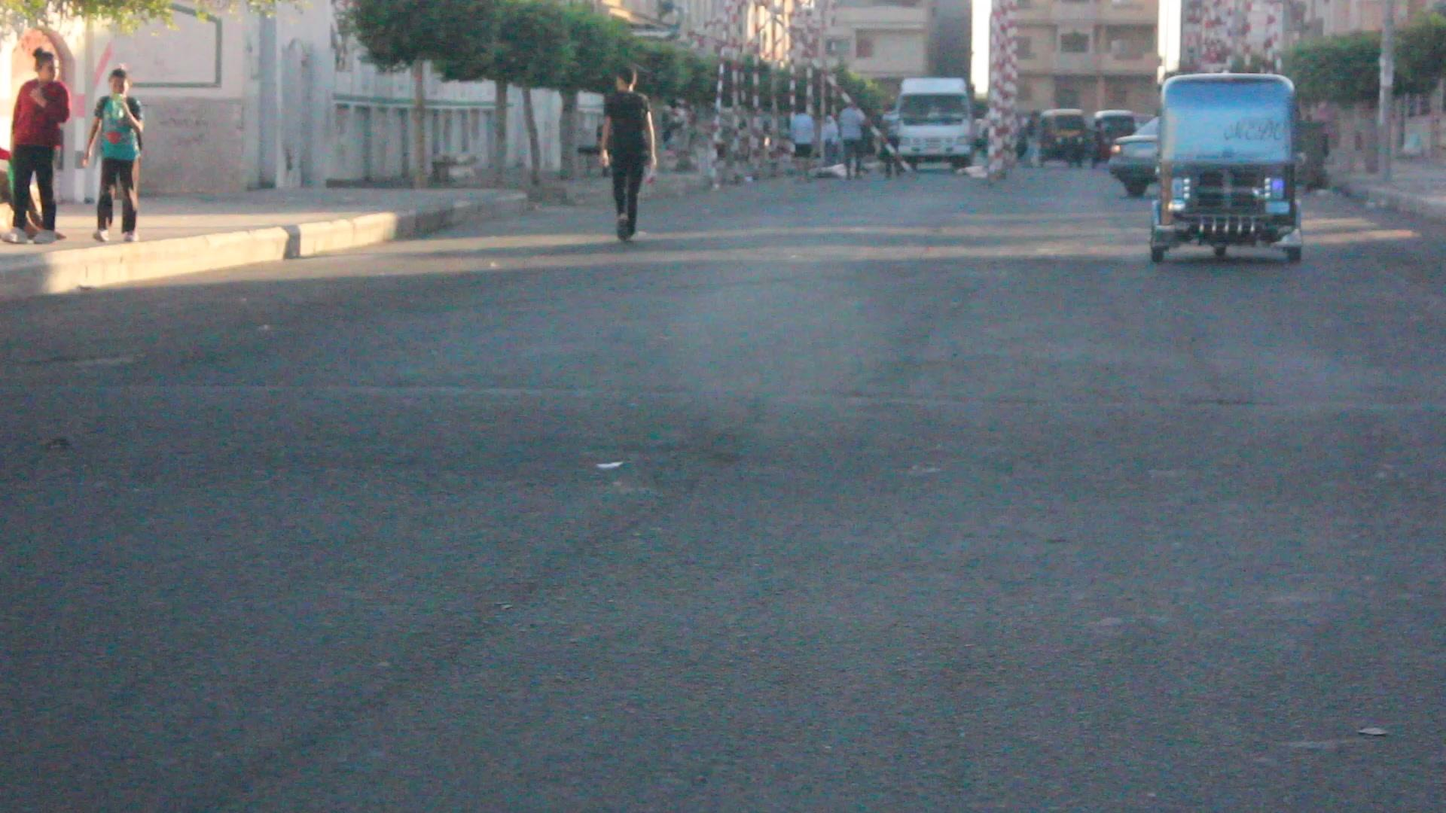Bump: (0, 344, 1445, 510)
